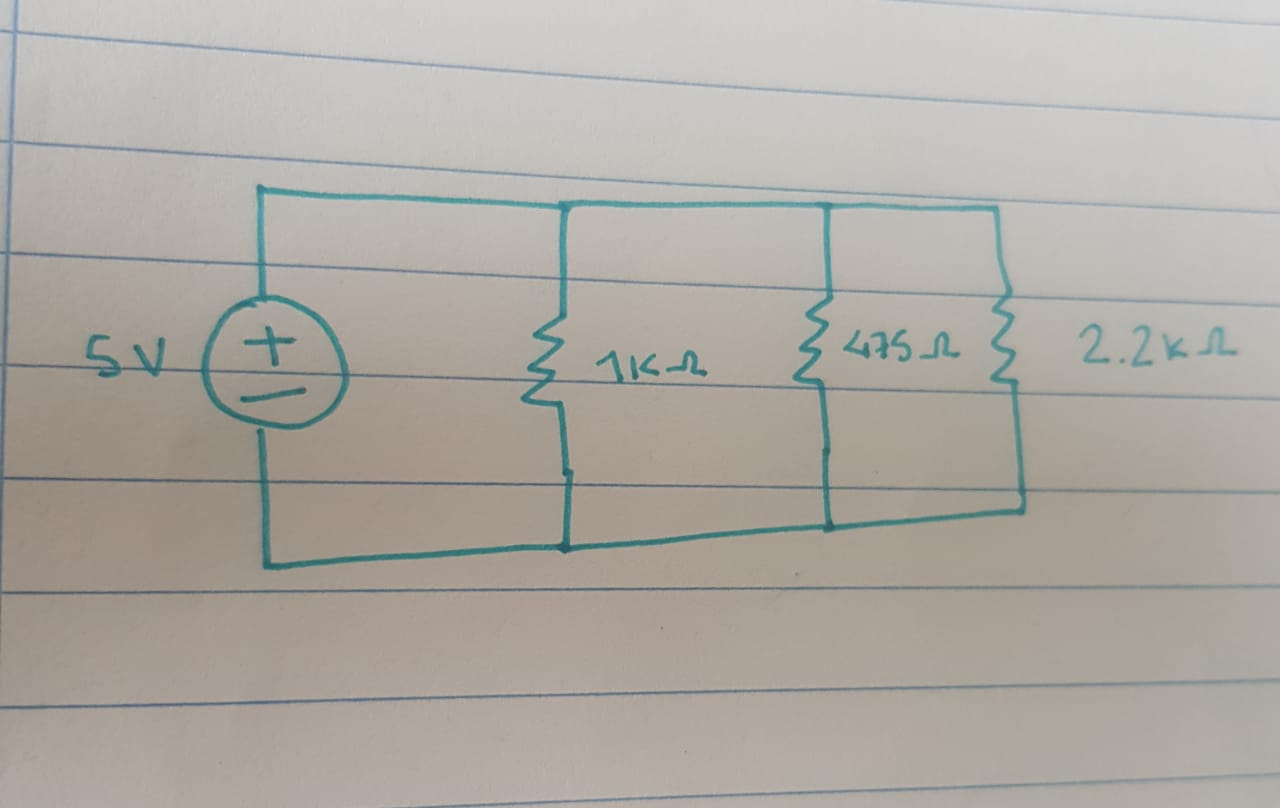junction: (820, 517, 843, 540), (555, 192, 575, 217), (253, 178, 274, 201), (815, 195, 838, 216), (256, 555, 278, 576), (557, 535, 575, 559), (985, 195, 1004, 217), (1013, 498, 1030, 519)
resistor: (514, 310, 572, 415), (785, 290, 843, 394), (983, 284, 1026, 387)
text: (1072, 315, 1244, 375), (82, 321, 174, 383), (838, 323, 964, 367), (593, 347, 719, 389)
voltage.dc: (195, 291, 353, 430)
